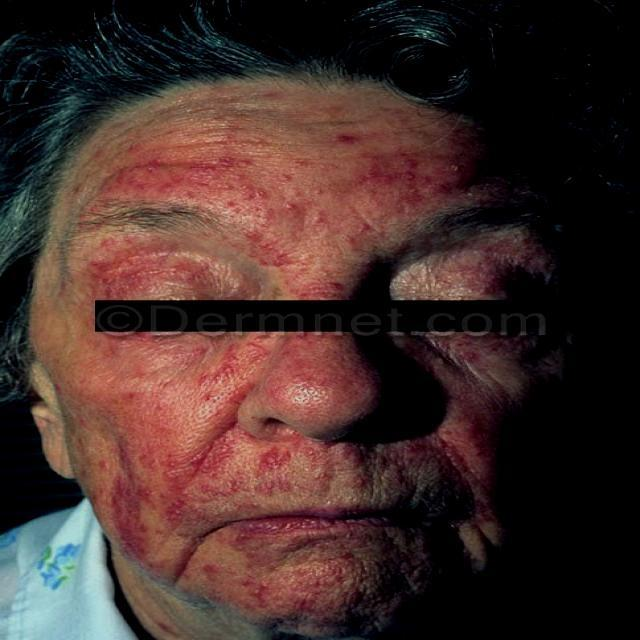Rosacea: (99, 154, 480, 301), (111, 444, 485, 562), (117, 336, 274, 558), (207, 559, 374, 617), (424, 362, 496, 486), (84, 244, 232, 294), (280, 332, 367, 394)
